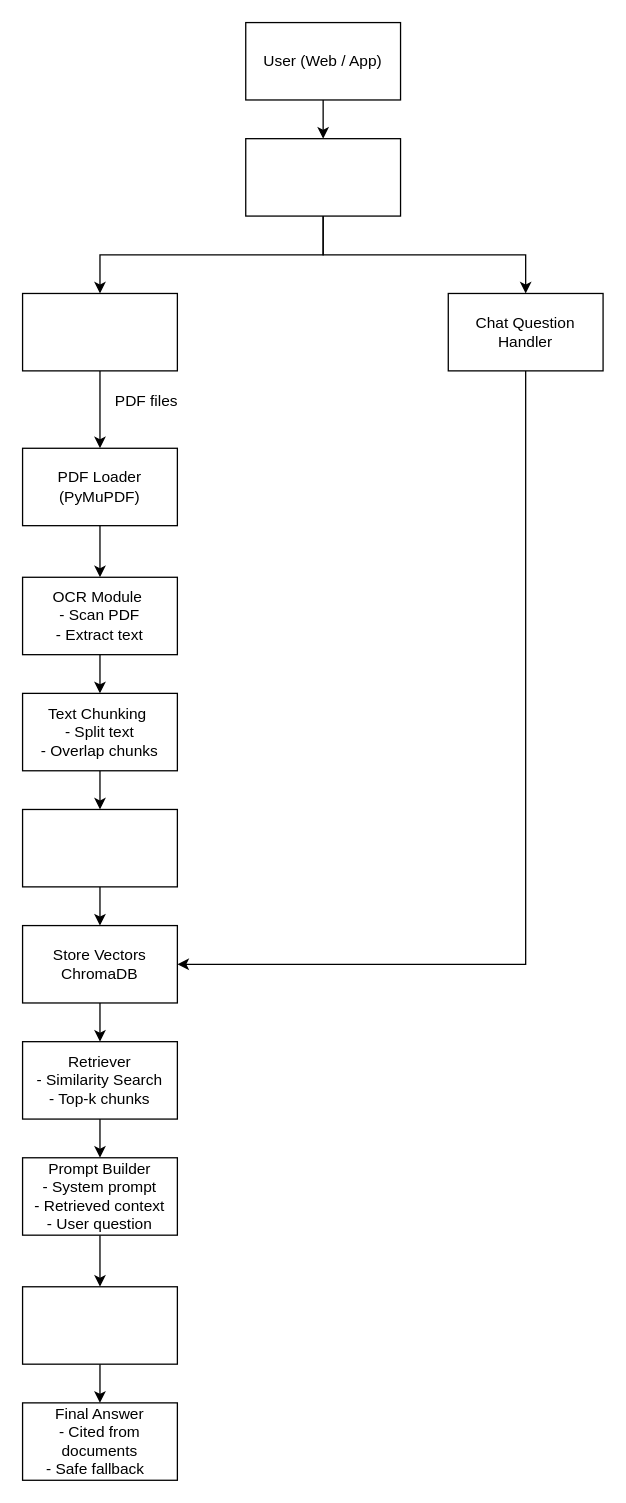
The diagram is 626 pixels wide and 1503 high, and some of its shapes have lost their labels. Each missing label, with the centre of its shape:
Embedding Model sentence-transformers all-MiniLM-L6-v2: the point at 99,847
Frontend (Streamlit): the point at 322,176
LLM Model gemini-2.5-flash: the point at 99,1324
PDF Upload Handler: the point at 99,331
